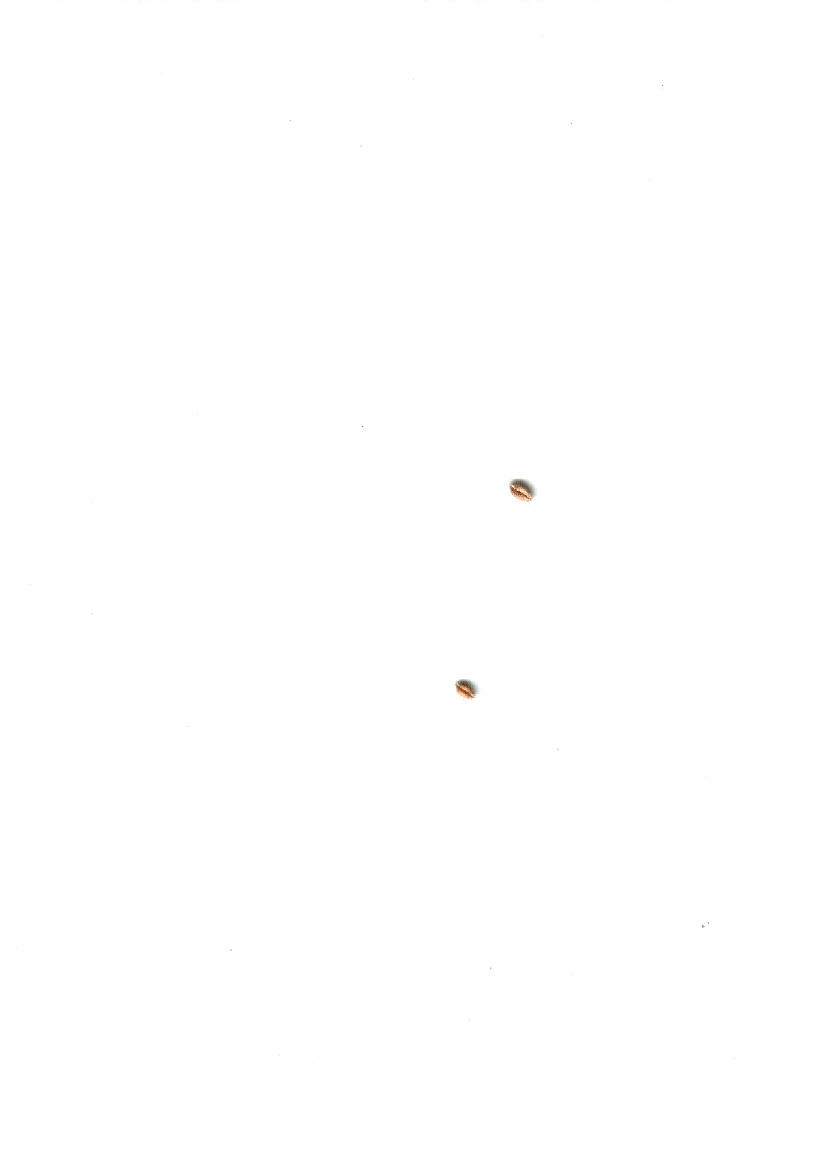grains: (497, 458, 558, 525), (445, 668, 489, 714)
